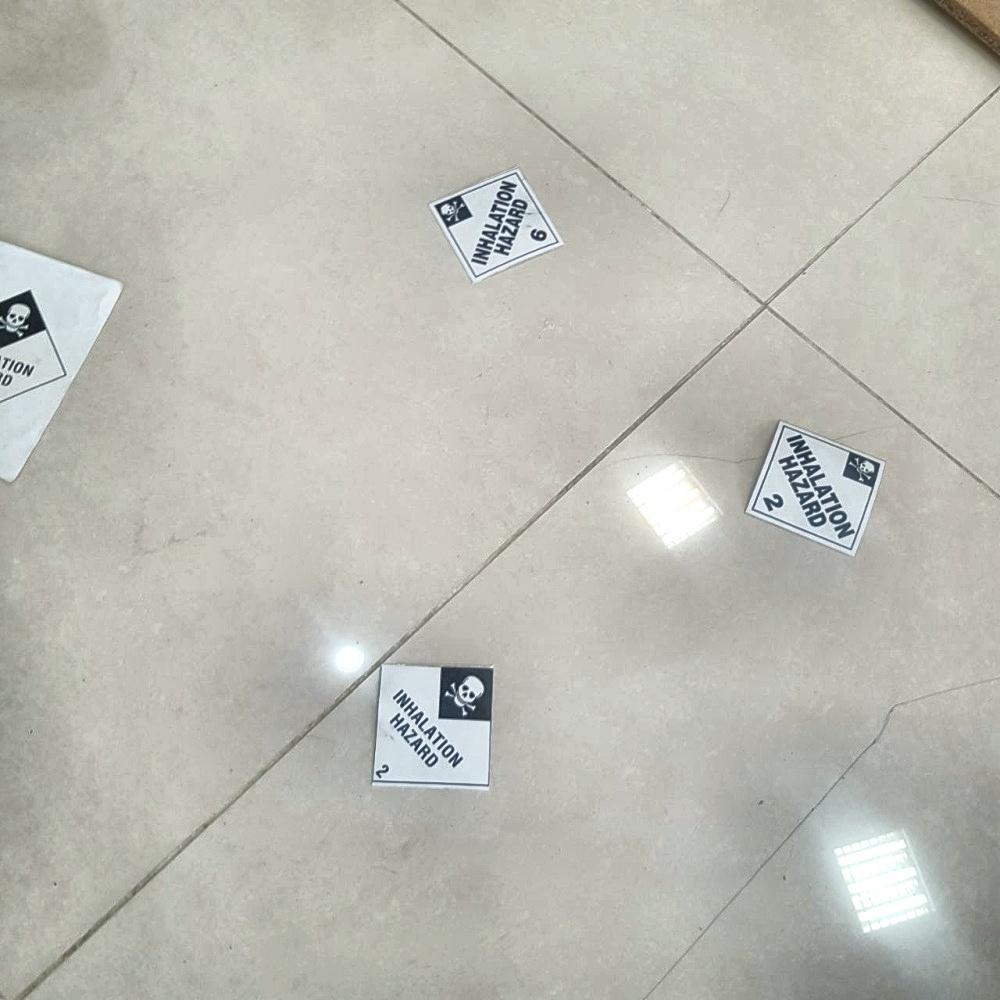poison: (743, 420, 889, 555), (429, 170, 562, 281), (378, 667, 493, 786), (1, 288, 72, 403)
